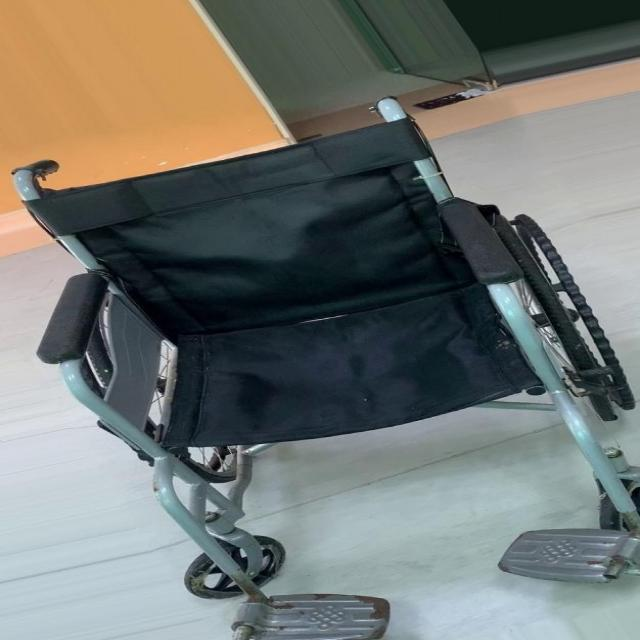wheelchair: (4, 87, 640, 639)
